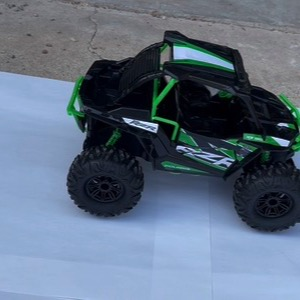polaris: (62, 26, 298, 235)
